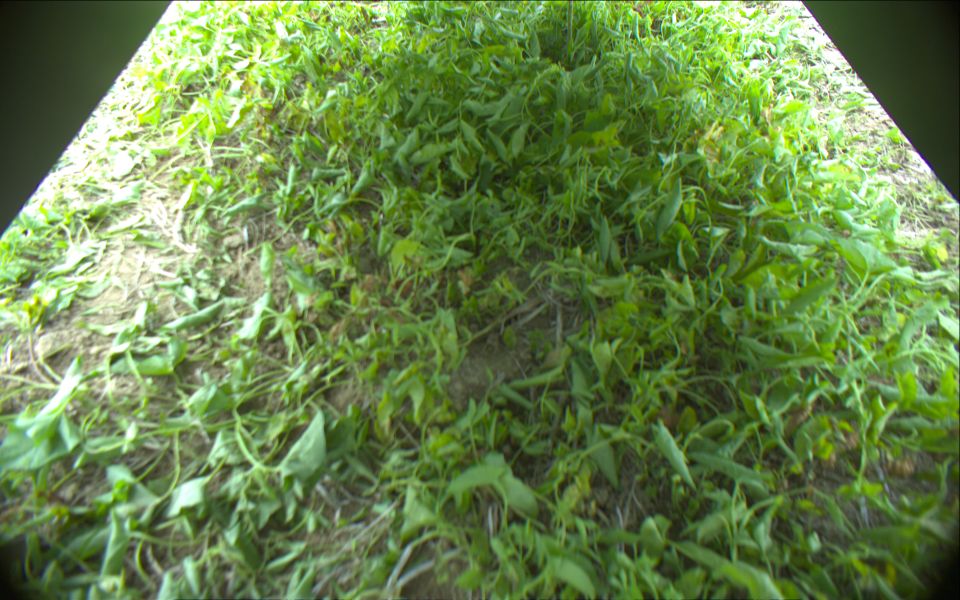aspa: (565, 1, 575, 50)
